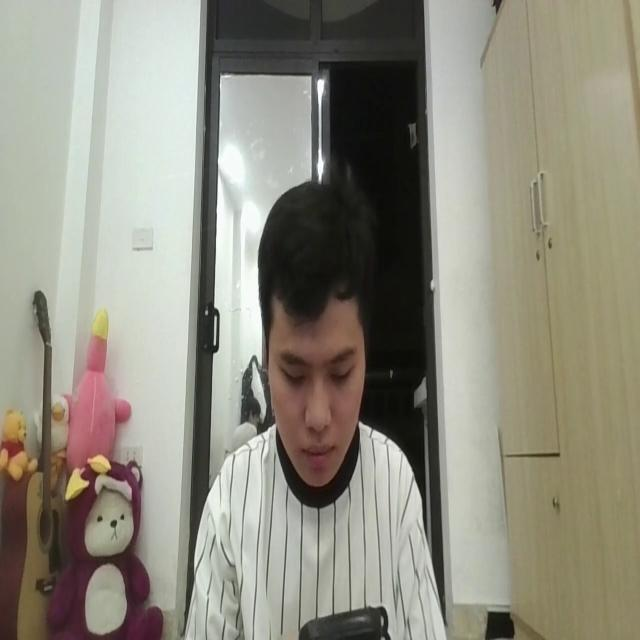phone: (298, 597, 382, 640)
student: (180, 169, 444, 640)
